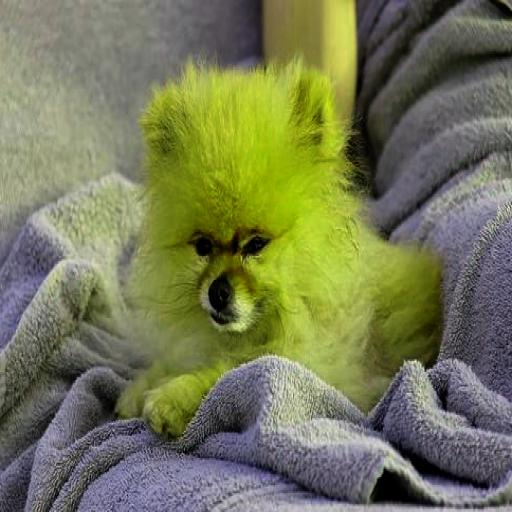dog_face: (150, 79, 332, 344)
